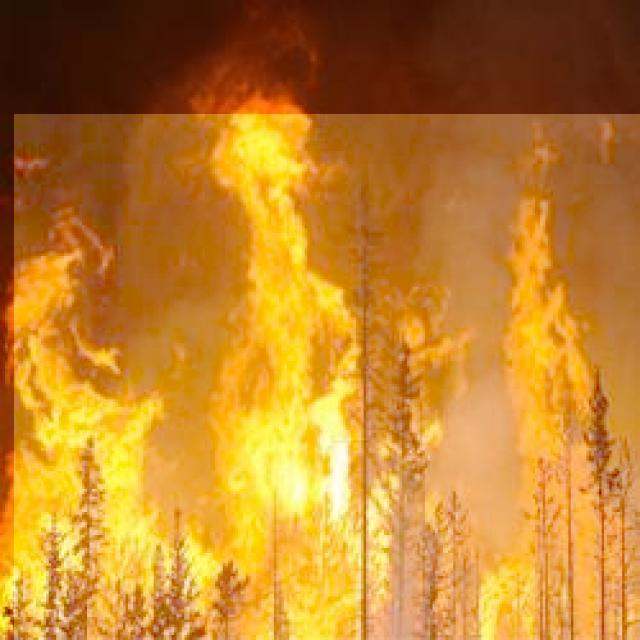Fire: (14, 114, 640, 640)
